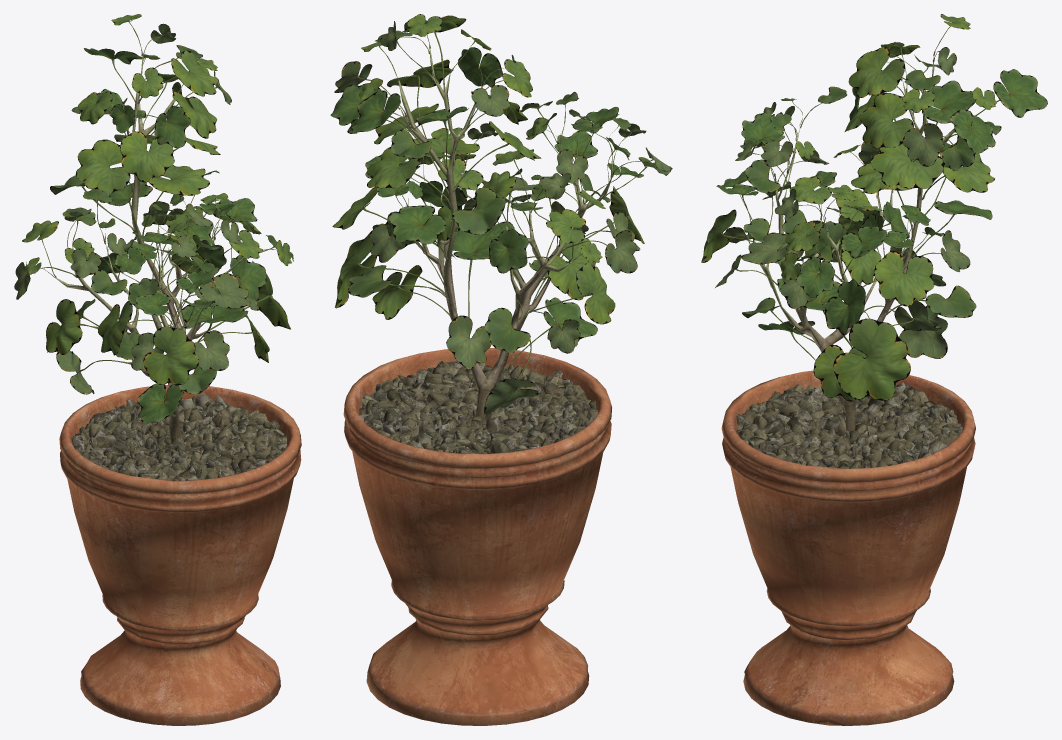
Rendered from plant-tall-1k.glb.
3 renders of one model, left to right at view 1: azimuth 30°, elevation 25°; view 2: azimuth 150°, elevation 25°; view 3: azimuth 270°, elevation 25°, orthographic. The views are drawn at different scales.
Parts seen in each view (by area): view 1: potted_plant_01_stem, potted_plant_01_leaves; view 2: potted_plant_01_stem, potted_plant_01_leaves; view 3: potted_plant_01_stem, potted_plant_01_leaves.
Part boxes in pixels (x1,y1,x2,y2): potted_plant_01_stem: (54,55,301,725); potted_plant_01_leaves: (14,14,293,424); potted_plant_01_stem: (343,48,612,725); potted_plant_01_leaves: (330,14,672,414); potted_plant_01_stem: (721,57,975,725); potted_plant_01_leaves: (701,14,1047,401).
Bounding box in the file's own units: 0.5874 × 1.34 × 0.6336.
Materials: 2 (2 with a texture image).
